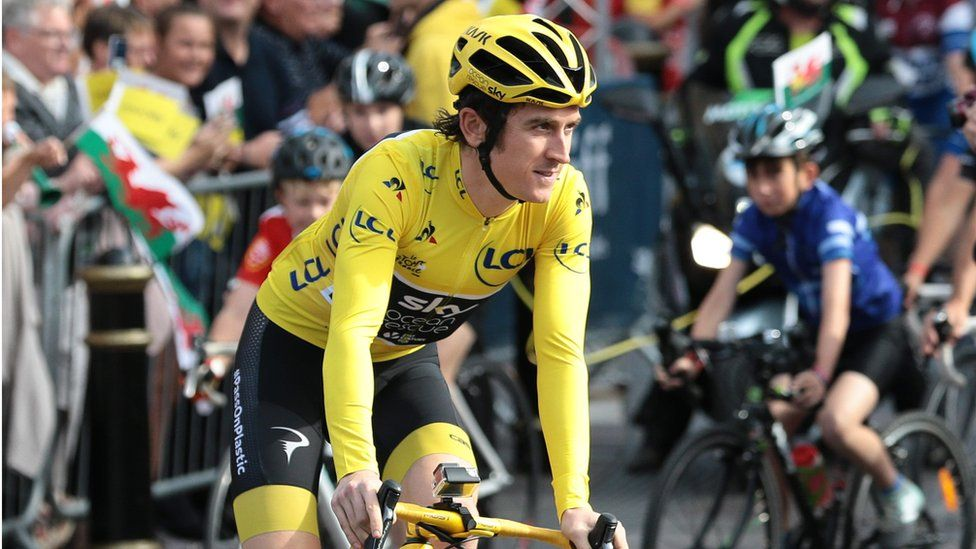helmet: (447, 13, 597, 202), (733, 105, 826, 214), (336, 48, 419, 148)
